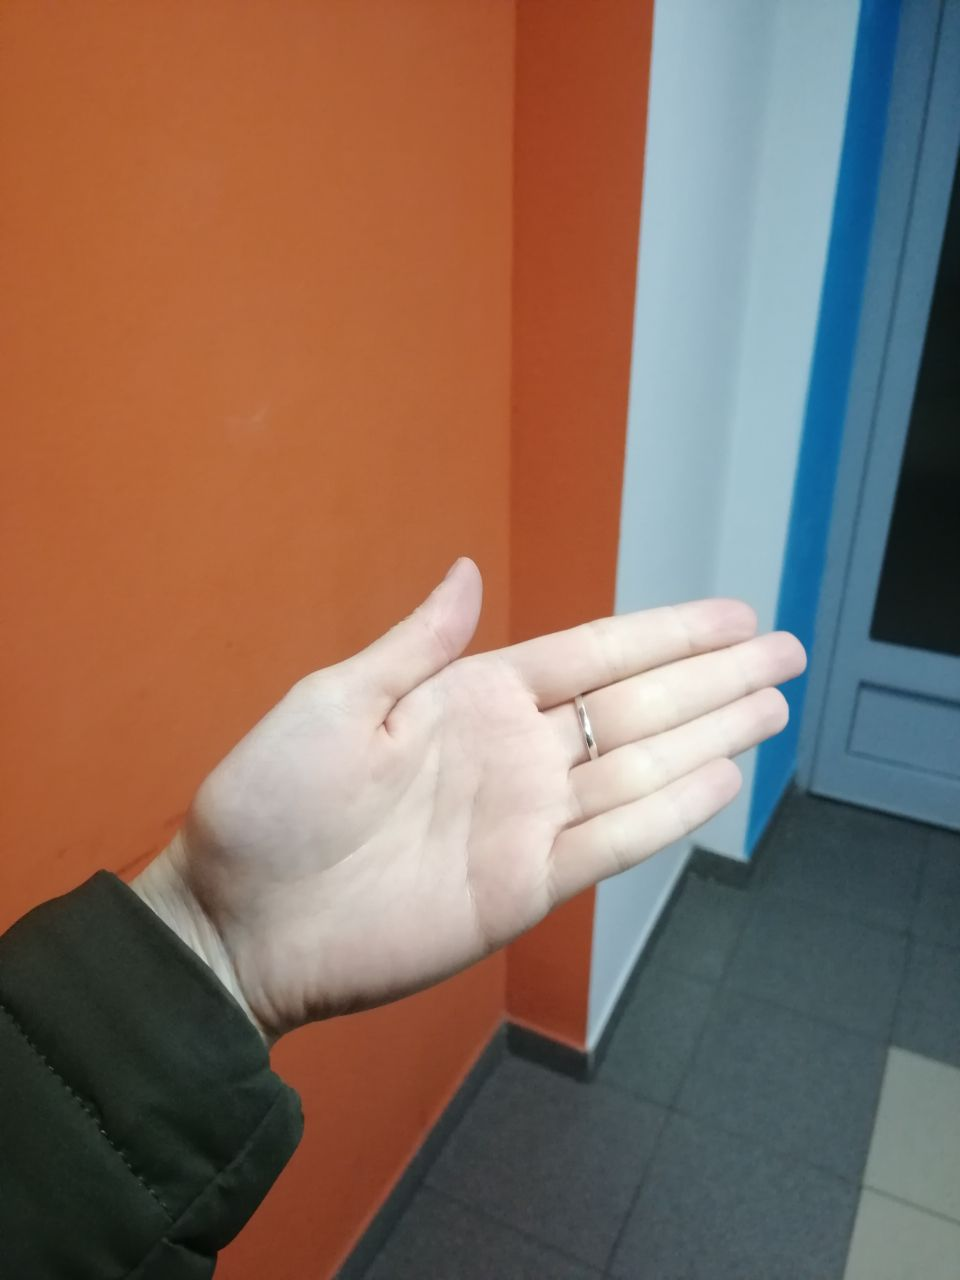hand: (212, 586, 787, 905)
